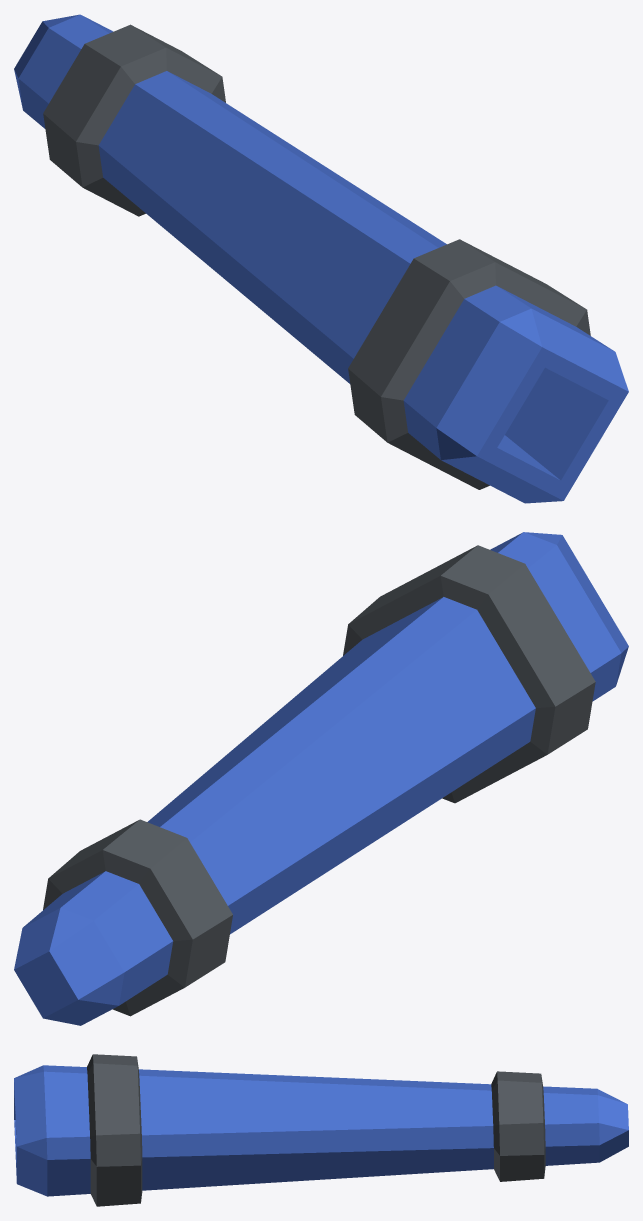
The model's file is Fighter_02_Breather_Blue.fbx.
3 views of the same model, one above another, from view 1: azimuth 30°, elevation 25°; view 2: azimuth 150°, elevation 25°; view 3: azimuth 270°, elevation 25° (orthographic). The views are drawn at different scales.
Visible parts, largest first — view 1: Fighter_02_Breather_Blue; view 2: Fighter_02_Breather_Blue; view 3: Fighter_02_Breather_Blue.
Part boxes in pixels (x1,y1,x2,y2): Fighter_02_Breather_Blue: (14, 14, 628, 503); Fighter_02_Breather_Blue: (14, 532, 628, 1025); Fighter_02_Breather_Blue: (14, 1054, 628, 1206).
Size of the model in its own units: 32.38 by 32.41 by 130.
1 material, 1 textured.
